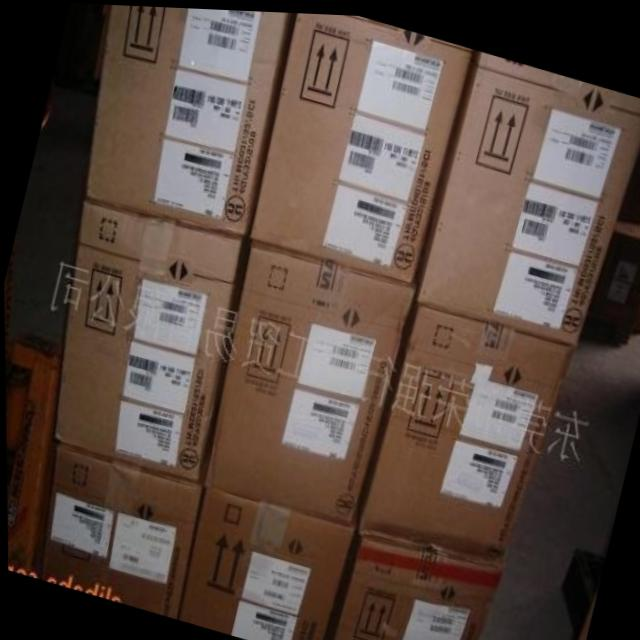box: (412, 46, 640, 340), (201, 236, 413, 521), (249, 10, 470, 278), (353, 289, 574, 557), (51, 197, 250, 482), (84, 4, 297, 236), (39, 439, 201, 616), (176, 482, 355, 640), (320, 527, 502, 640)
